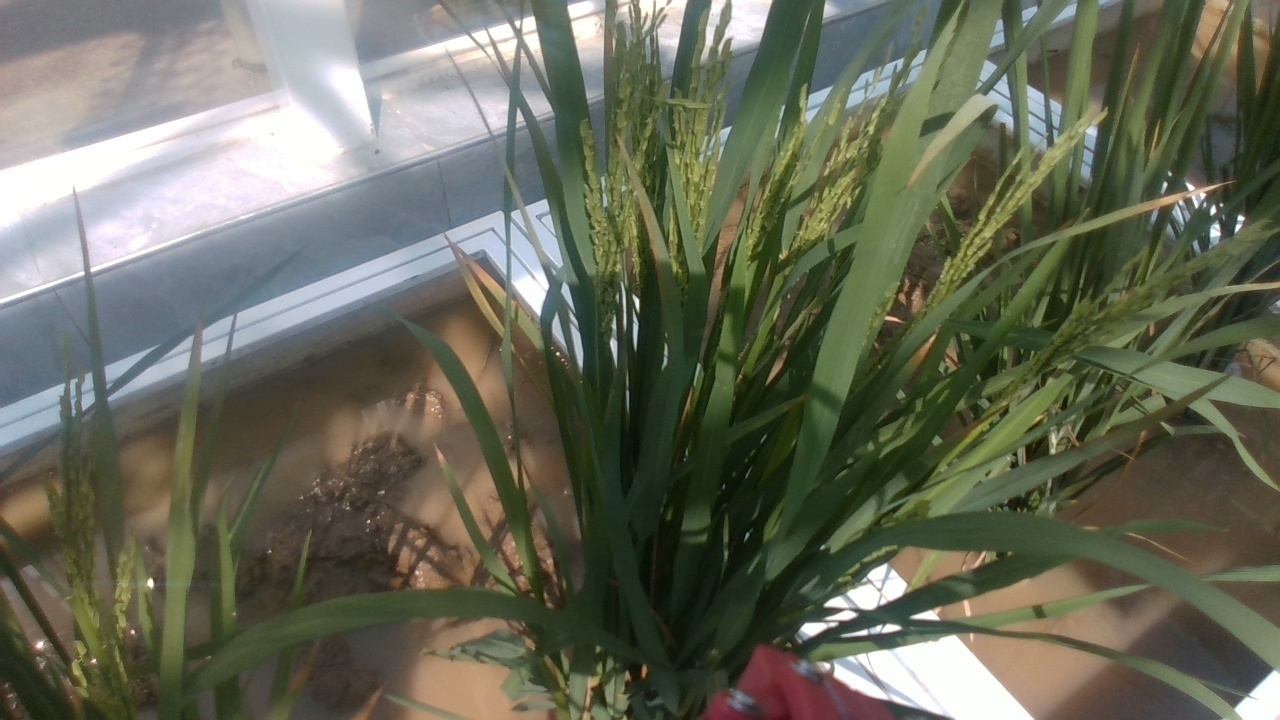panicle: (932, 100, 1104, 294), (663, 15, 748, 209), (737, 96, 817, 248), (812, 66, 880, 229), (576, 123, 640, 282), (608, 1, 666, 124)
